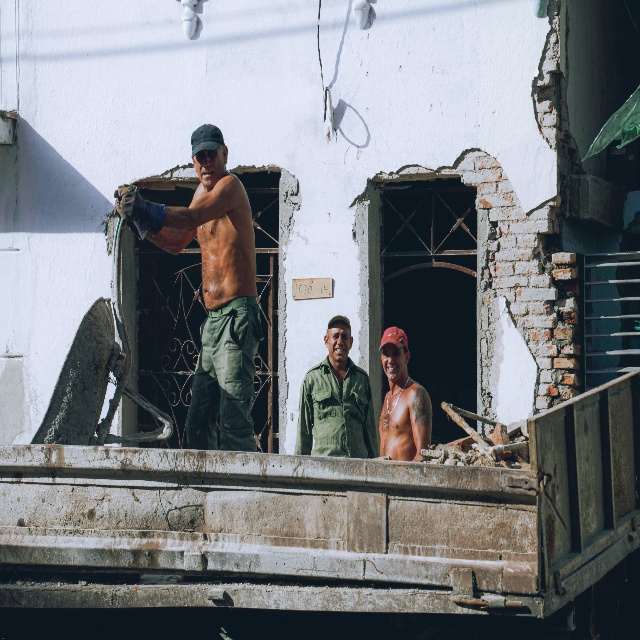Guantes: (114, 185, 164, 238)
